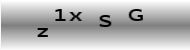1: (52, 7, 66, 23)
G: (128, 8, 144, 22)
S: (98, 13, 112, 28)
x: (68, 11, 82, 22)
z: (36, 26, 49, 38)
